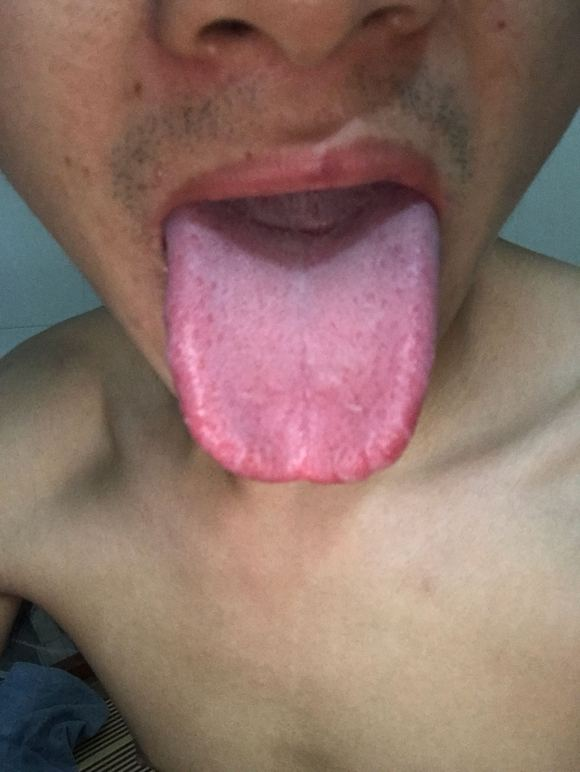shenquao: (198, 186, 386, 245)
zishe: (164, 188, 438, 486)
